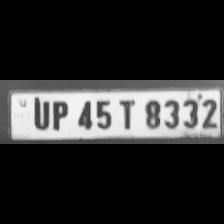2: (198, 96, 218, 128)
3: (162, 96, 180, 128), (180, 96, 198, 128)
4: (72, 97, 94, 129)
5: (92, 97, 114, 129)
8: (140, 97, 162, 129)
P: (48, 98, 70, 130)
T: (115, 97, 139, 129)
U: (28, 98, 52, 130)
